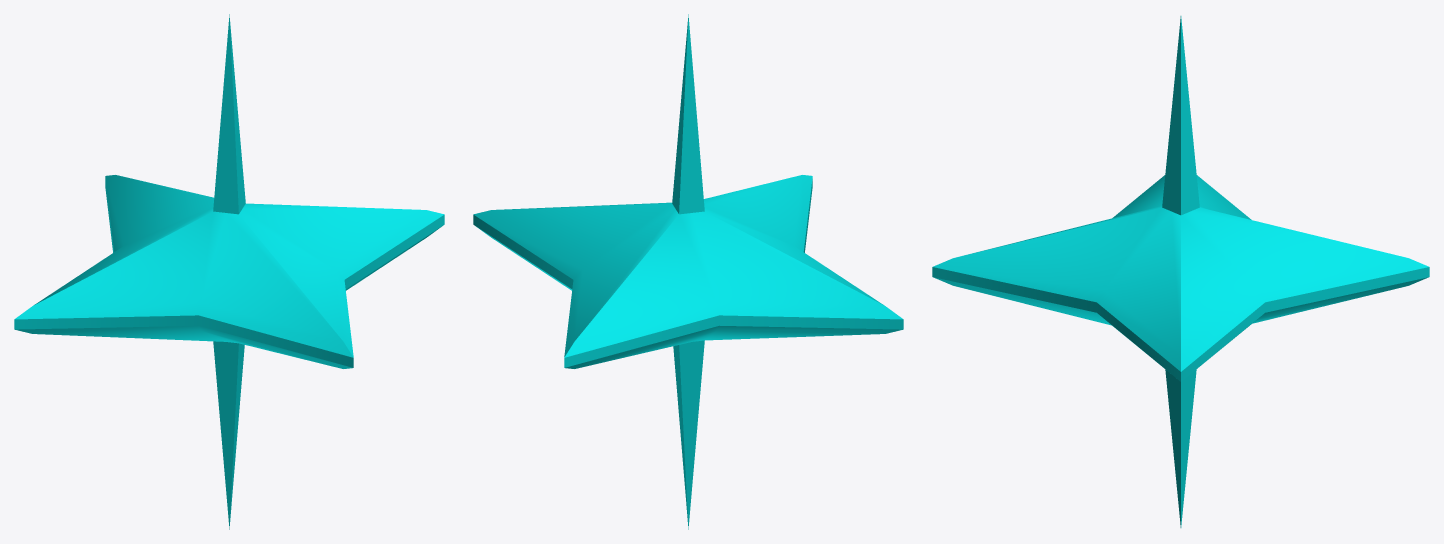
The model's file is caltrop_idle_anim.fbx.
3 renders of one model, left to right at view 1: azimuth 30°, elevation 25°; view 2: azimuth 150°, elevation 25°; view 3: azimuth 270°, elevation 25°, orthographic.
Parts seen in each view (by area): view 1: Caltrop body, Caltrop top, Caltrop bottom; view 2: Caltrop body, Caltrop top, Caltrop bottom; view 3: Caltrop body, Caltrop top, Caltrop bottom.
Boxes of the visible parts, x1,y1,x2,y2 form: Caltrop body: [14, 175, 444, 368]; Caltrop top: [213, 14, 245, 214]; Caltrop bottom: [213, 341, 244, 529]; Caltrop body: [473, 175, 903, 368]; Caltrop top: [672, 14, 704, 214]; Caltrop bottom: [673, 340, 704, 529]; Caltrop body: [932, 175, 1429, 381]; Caltrop top: [1162, 16, 1199, 215]; Caltrop bottom: [1165, 369, 1196, 527].
Size of the model in its own units: 340 by 389 by 340.
